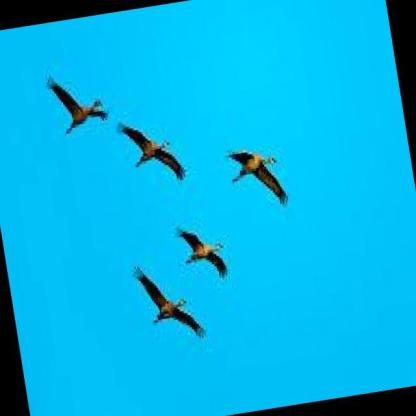bird: (130, 255, 210, 352), (217, 132, 295, 220), (115, 111, 191, 193), (40, 63, 116, 141), (168, 212, 231, 288)
